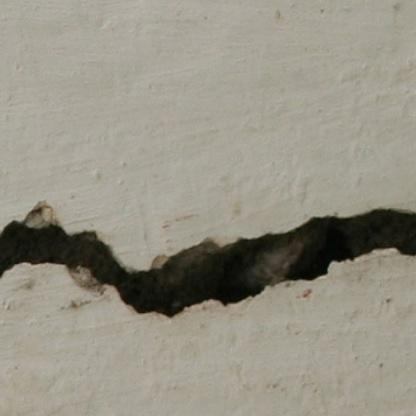Cracks: (0, 197, 416, 323)
